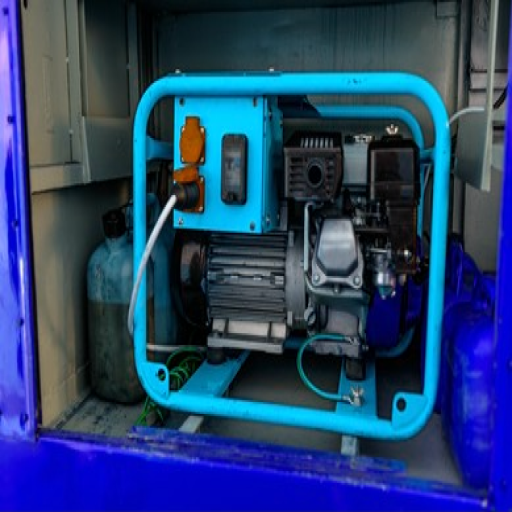portable_generator: (132, 69, 452, 446)
